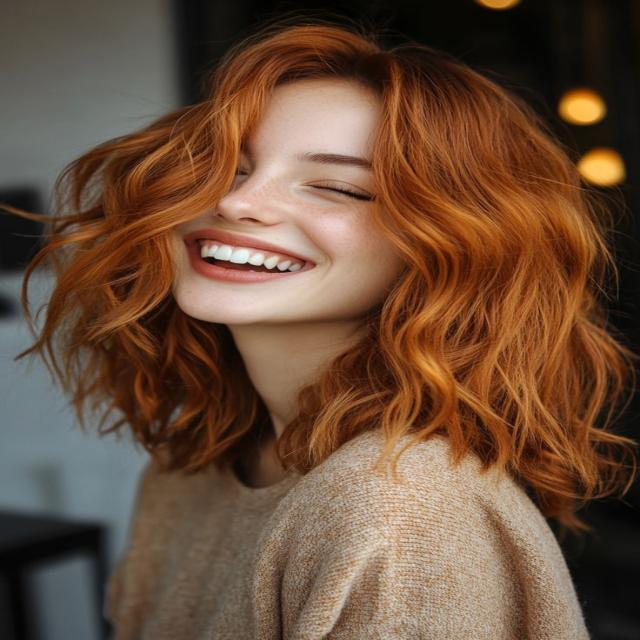sem_oculos: (201, 120, 431, 226)
